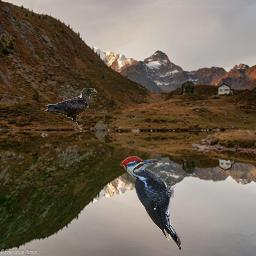Crow: (44, 88, 97, 132)
Woodpecker: (120, 156, 181, 250)
